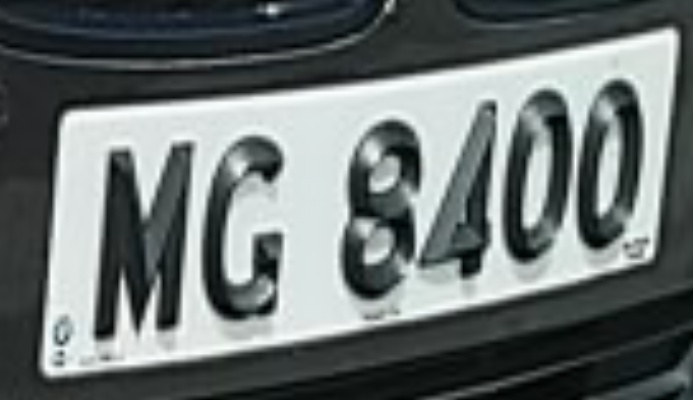0: (493, 72, 581, 271), (569, 68, 648, 252)
4: (415, 89, 505, 294)
8: (330, 108, 432, 312)
G: (191, 126, 297, 337)
M: (81, 122, 205, 350)
